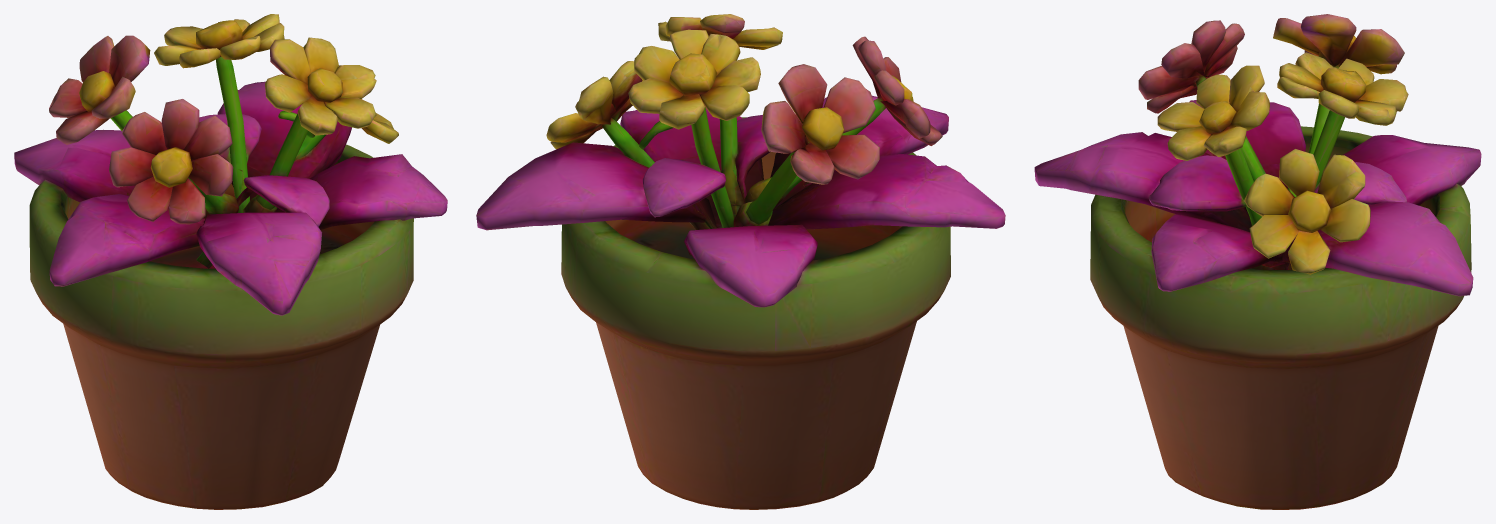
Rendered from prop_planter.glb.
3 renders of one model, left to right at view 1: azimuth 30°, elevation 25°; view 2: azimuth 150°, elevation 25°; view 3: azimuth 270°, elevation 25°, orthographic. The views are drawn at different scales.
Visible parts, largest first — view 1: tripo_node_23b7117b-d31c-4bc1-b982-00421766391e; view 2: tripo_node_23b7117b-d31c-4bc1-b982-00421766391e; view 3: tripo_node_23b7117b-d31c-4bc1-b982-00421766391e.
Boxes of the visible parts, x1,y1,x2,y2 form: tripo_node_23b7117b-d31c-4bc1-b982-00421766391e: (14,14,447,509); tripo_node_23b7117b-d31c-4bc1-b982-00421766391e: (476,14,1005,509); tripo_node_23b7117b-d31c-4bc1-b982-00421766391e: (1034,14,1481,509).
Size of the model in its own units: 0.9746 by 0.998 by 0.9707.
1 material, 1 textured.
